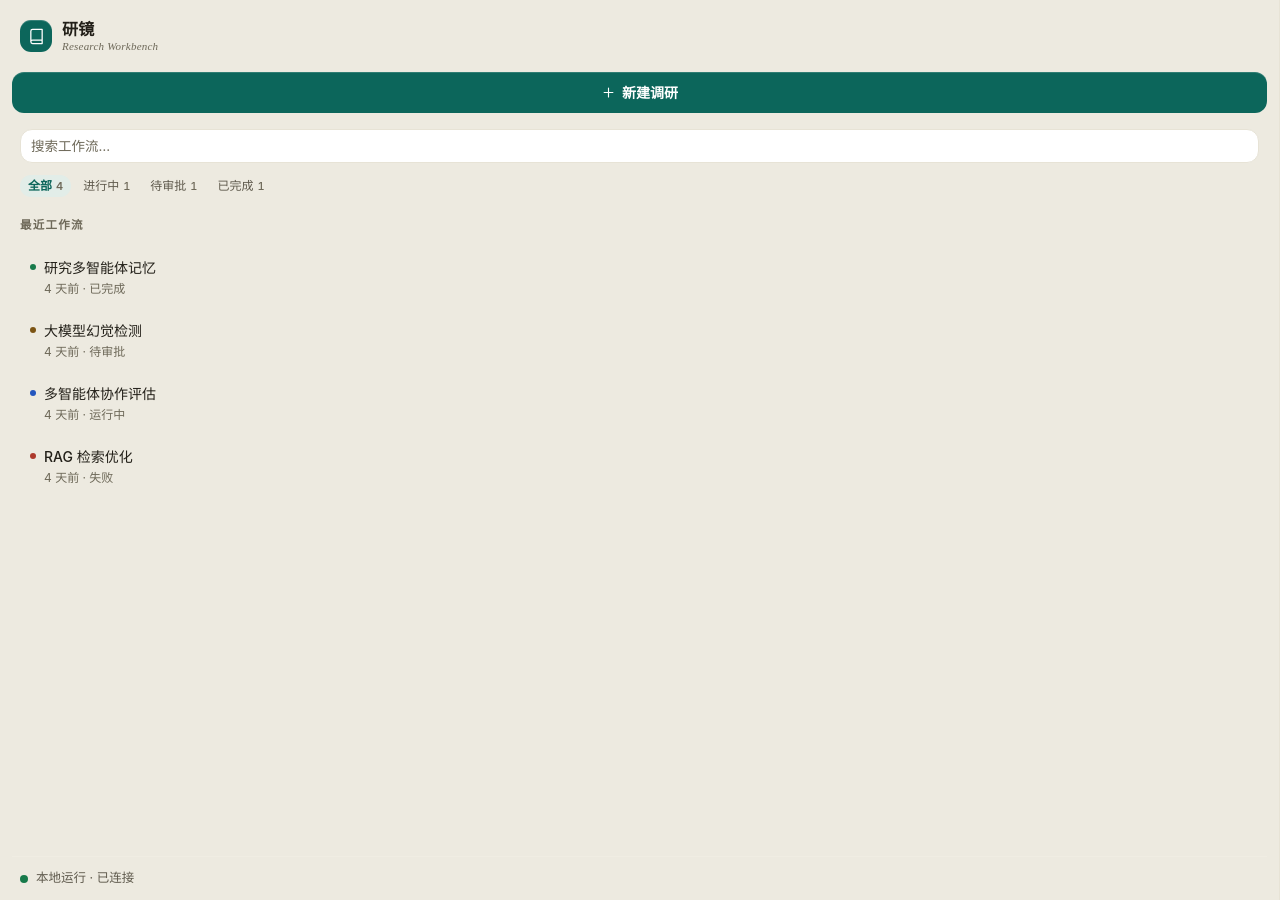
WorkflowList › filters by keyword and status chips with counts
The width and height of the screenshot is (1280, 900).
expect the number of list items is 4: met, box [20, 246, 1259, 308]; [20, 310, 1259, 370]; [20, 372, 1259, 434]; [20, 436, 1259, 496]
expect the button "进行中1" is shown: met, box [75, 175, 138, 197]
Type "多智能体" into the field with placeholder "搜索工作流…" at (640, 146), box [20, 129, 1259, 163]
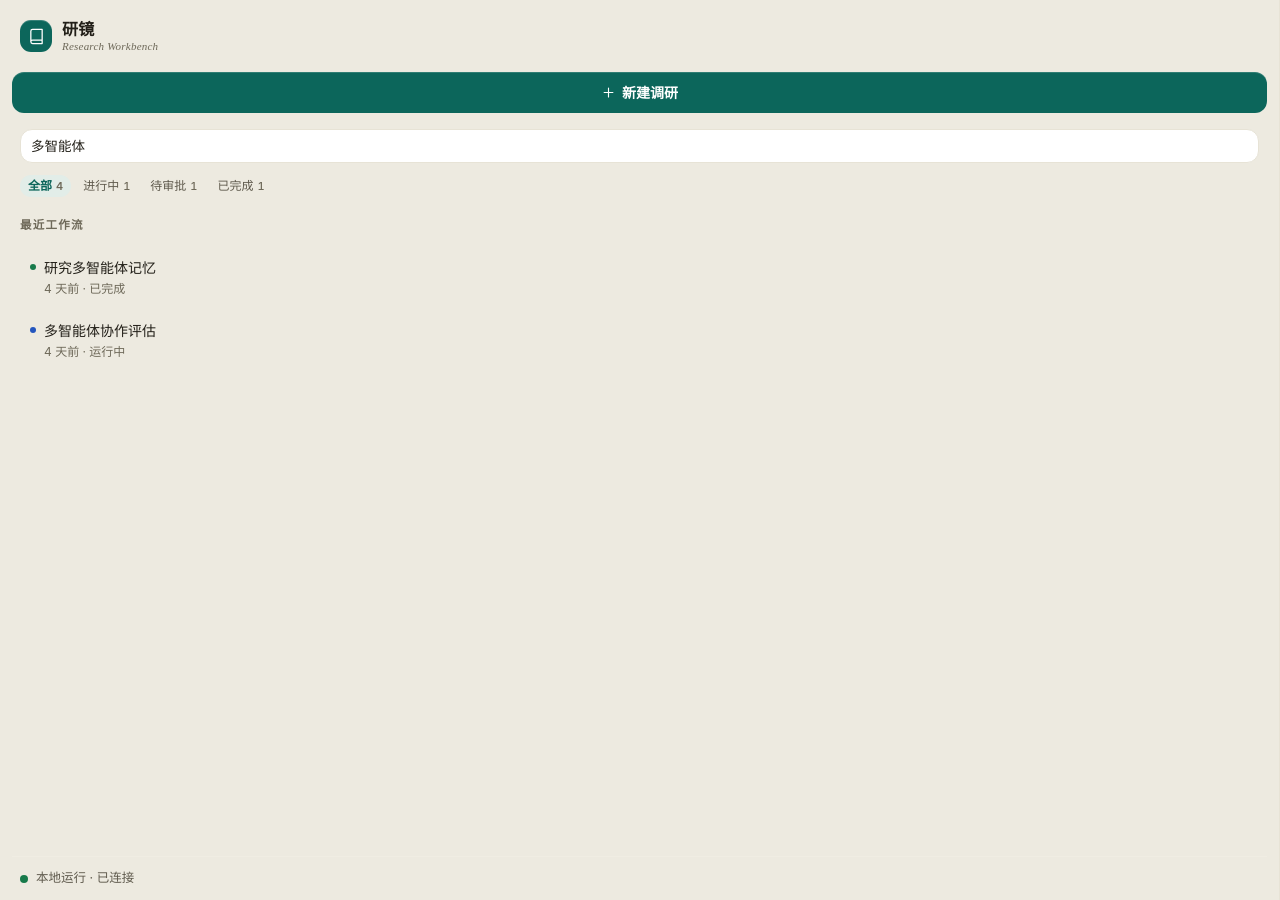
expect the number of list items is 2: met, box [20, 246, 1259, 308]; [20, 310, 1259, 370]
Click the button "待审批1" at (174, 186), box [142, 175, 206, 197]
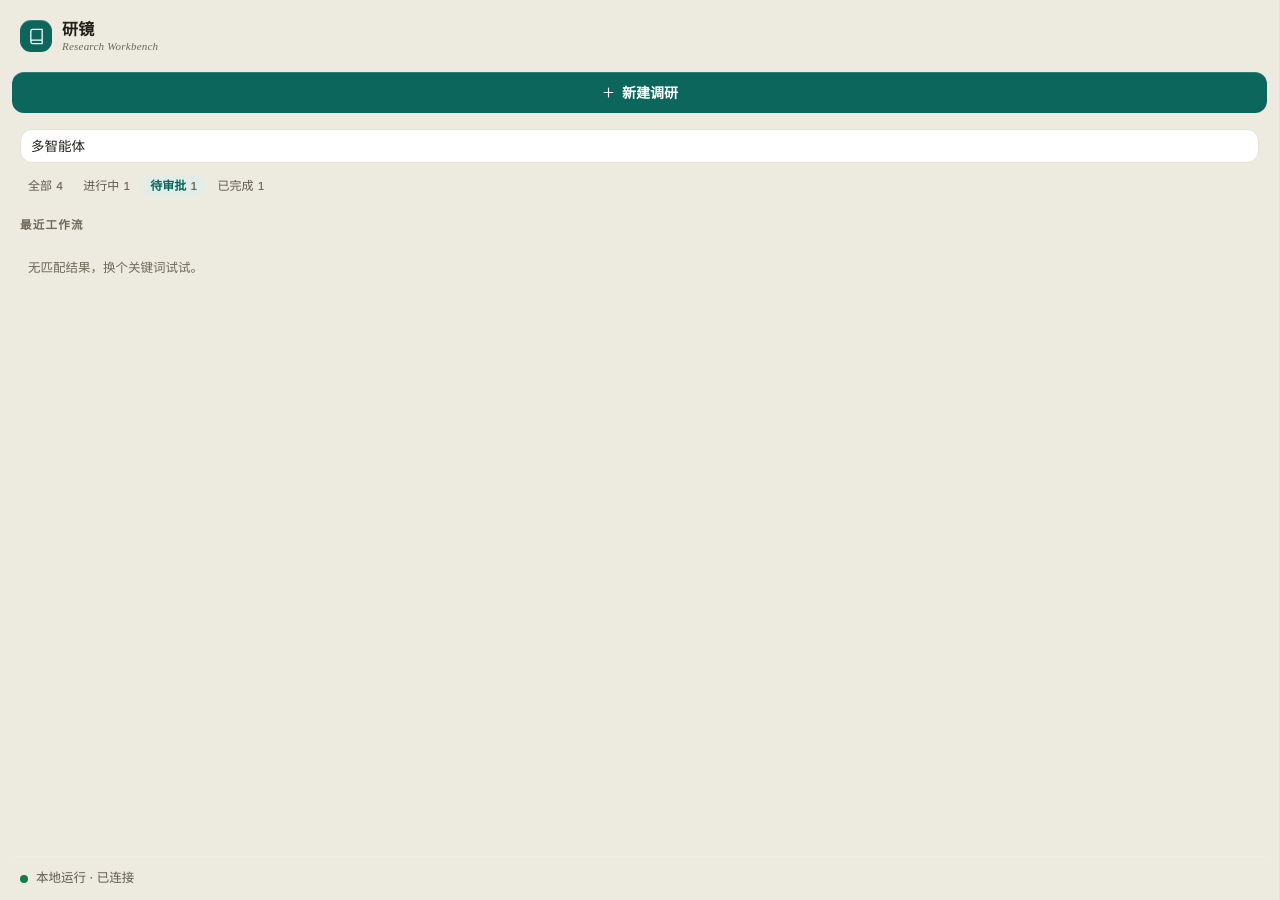
expect the button "研究多智能体记忆" is gone: met
expect the list item "无匹配结果，换个关键词试试。" is shown: met, box [28, 260, 203, 274]
Click the button "全部4" at (46, 186), box [20, 175, 71, 197]
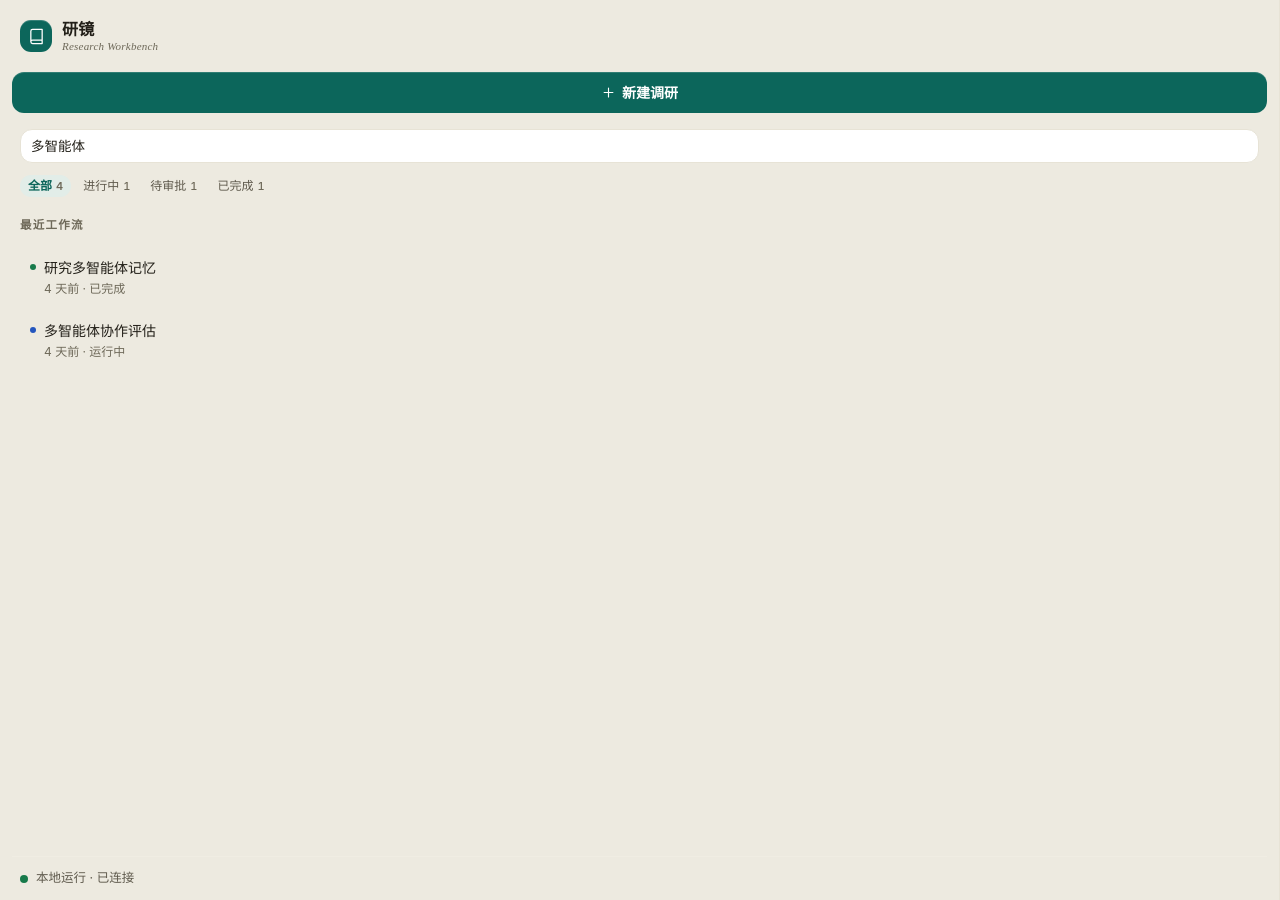
expect the number of list items is 2: met, box [20, 246, 1259, 308]; [20, 310, 1259, 370]
Clear the field with placeholder "搜索工作流…" at (640, 146), box [20, 129, 1259, 163]
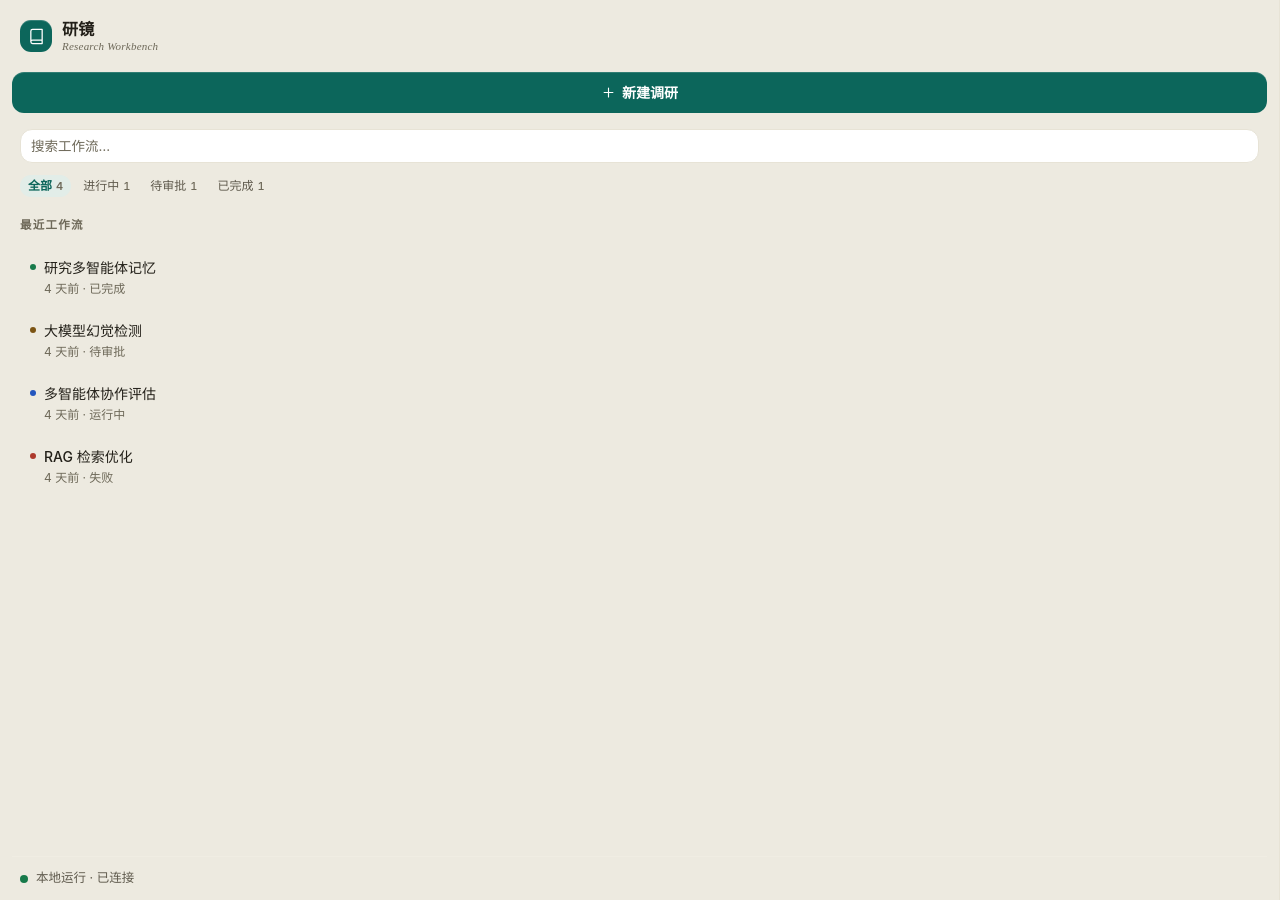
expect the number of list items is 4: met, box [20, 246, 1259, 308]; [20, 310, 1259, 370]; [20, 372, 1259, 434]; [20, 436, 1259, 496]
